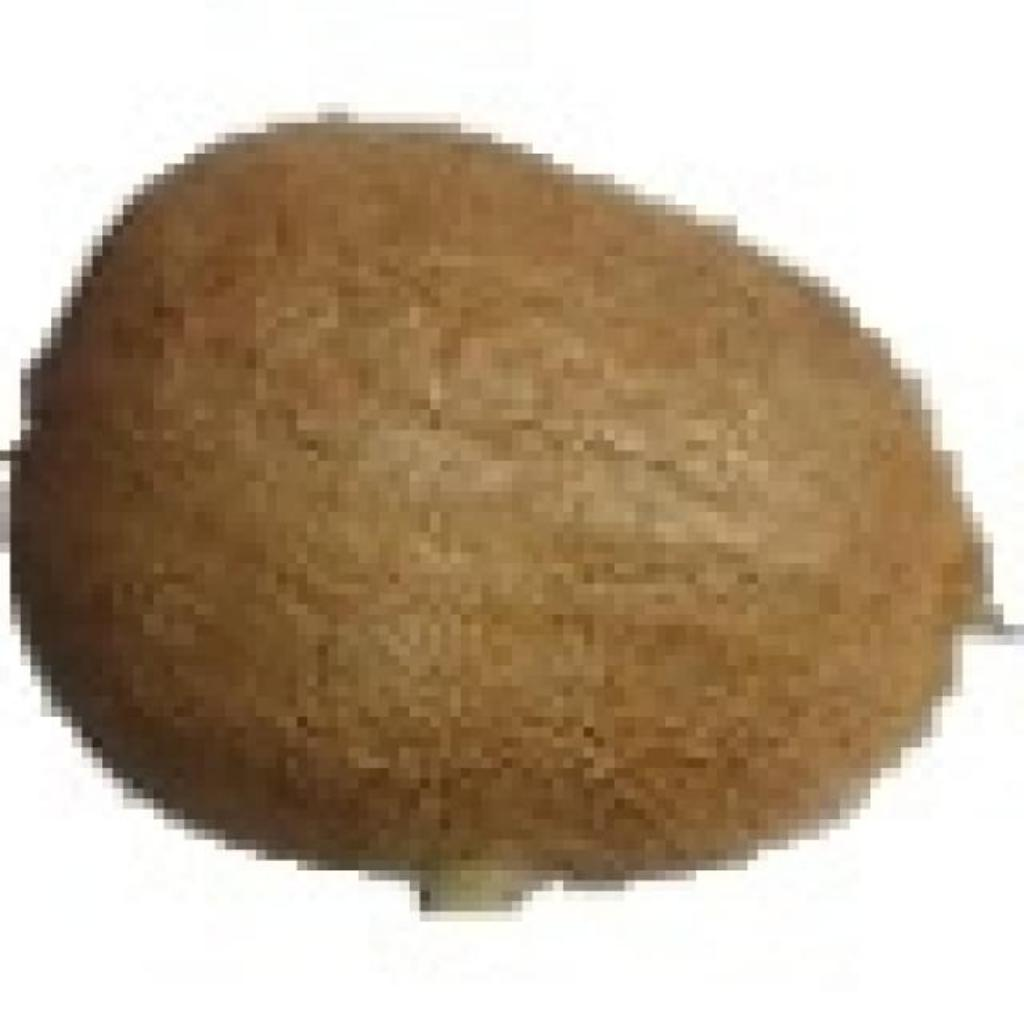kiwi: (31, 113, 993, 881)
